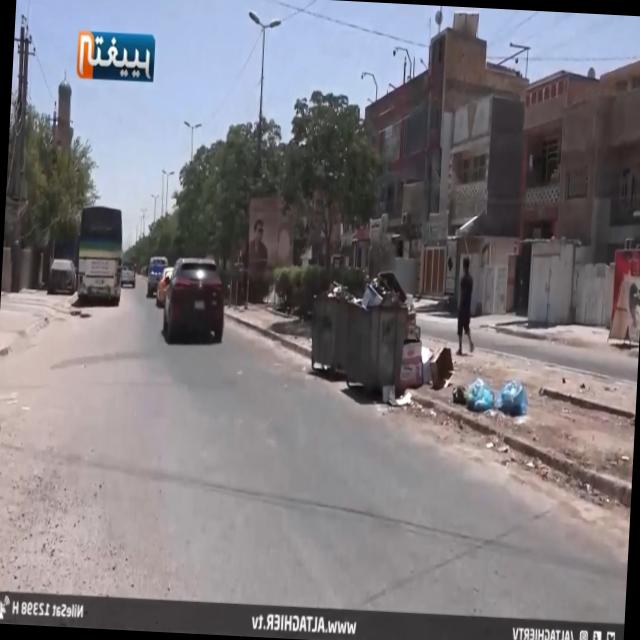high trash: (311, 273, 452, 417)
less trash: (453, 377, 528, 417)
